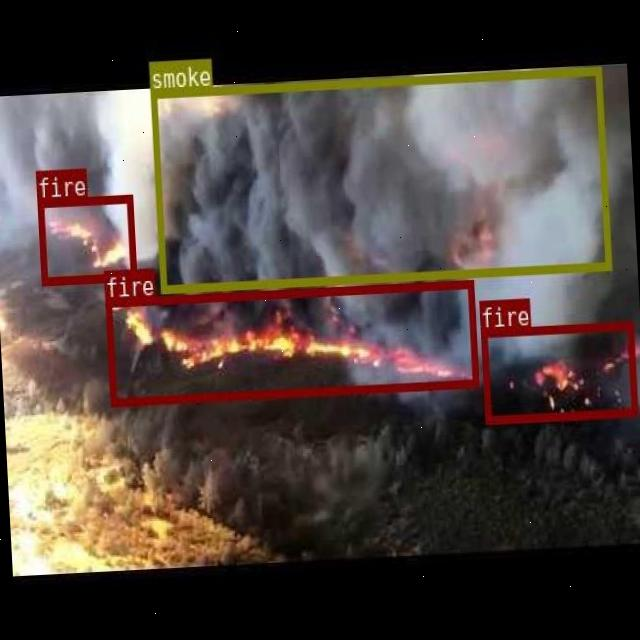fire: (105, 279, 478, 405), (481, 320, 636, 422), (36, 193, 134, 284)
smoke: (150, 66, 610, 291)
